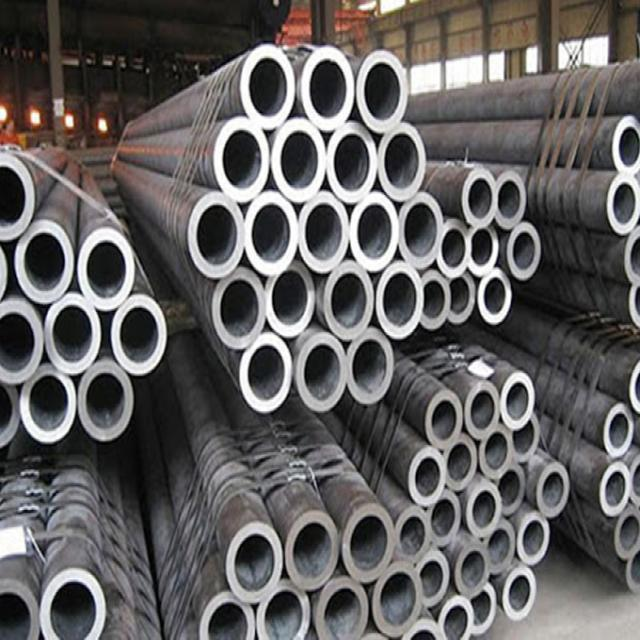Dry Waste: (136, 45, 569, 640)
